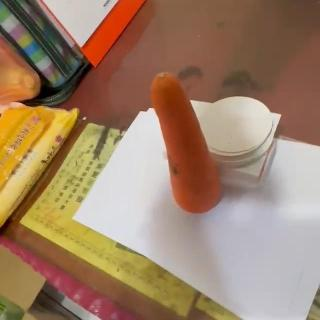carrot: (150, 71, 217, 212)
